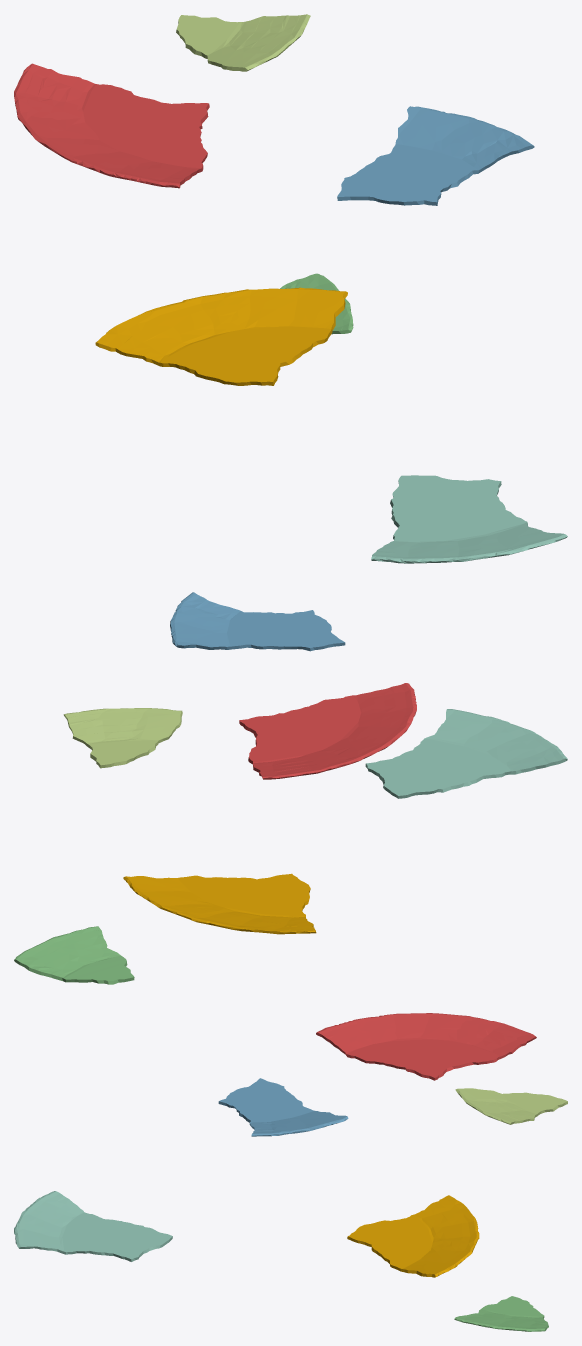
The model's file is fractured_33_6pcs_transformed.glb.
3 views of the same model, one above another, from view 1: azimuth 30°, elevation 25°; view 2: azimuth 150°, elevation 25°; view 3: azimuth 270°, elevation 25° (orthographic). The views are drawn at different scales.
Visible parts, largest first — view 1: piece_0.obj, piece_1.obj, piece_4.obj, piece_2.obj, piece_5.obj, piece_3.obj; view 2: piece_1.obj, piece_4.obj, piece_0.obj, piece_2.obj, piece_5.obj, piece_3.obj; view 3: piece_1.obj, piece_0.obj, piece_4.obj, piece_2.obj, piece_5.obj, piece_3.obj.
Boxes of the visible parts, x1,y1,x2,y2 form: piece_0.obj: [95, 287, 347, 385]; piece_1.obj: [14, 63, 209, 188]; piece_4.obj: [371, 475, 567, 563]; piece_2.obj: [337, 106, 534, 205]; piece_5.obj: [176, 14, 310, 71]; piece_3.obj: [280, 273, 353, 334]; piece_1.obj: [239, 683, 416, 779]; piece_4.obj: [365, 709, 567, 798]; piece_0.obj: [123, 873, 316, 934]; piece_2.obj: [170, 592, 345, 651]; piece_5.obj: [63, 708, 182, 768]; piece_3.obj: [14, 926, 134, 984]; piece_1.obj: [316, 1013, 536, 1080]; piece_0.obj: [347, 1195, 479, 1277]; piece_4.obj: [14, 1191, 172, 1261]; piece_2.obj: [218, 1078, 348, 1136]; piece_5.obj: [455, 1088, 567, 1124]; piece_3.obj: [454, 1296, 548, 1331].
Bounding box in the file's own units: 1 × 0.775 × 1.9.
